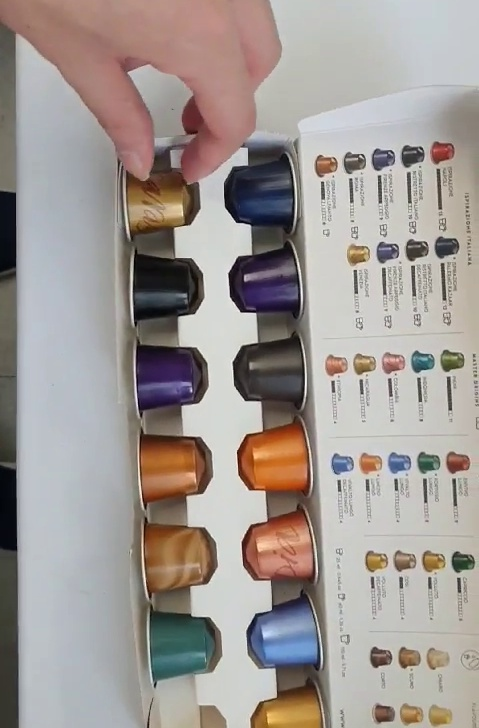capsule_9: (115, 154, 201, 248)
